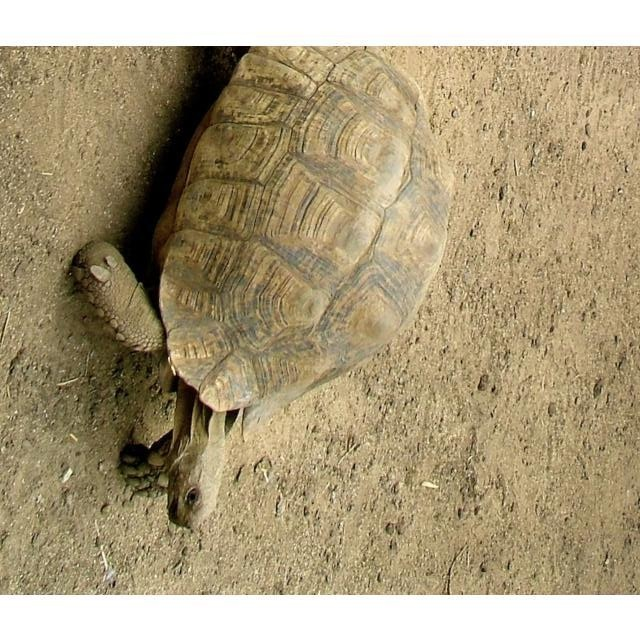turtle: (69, 48, 455, 531)
